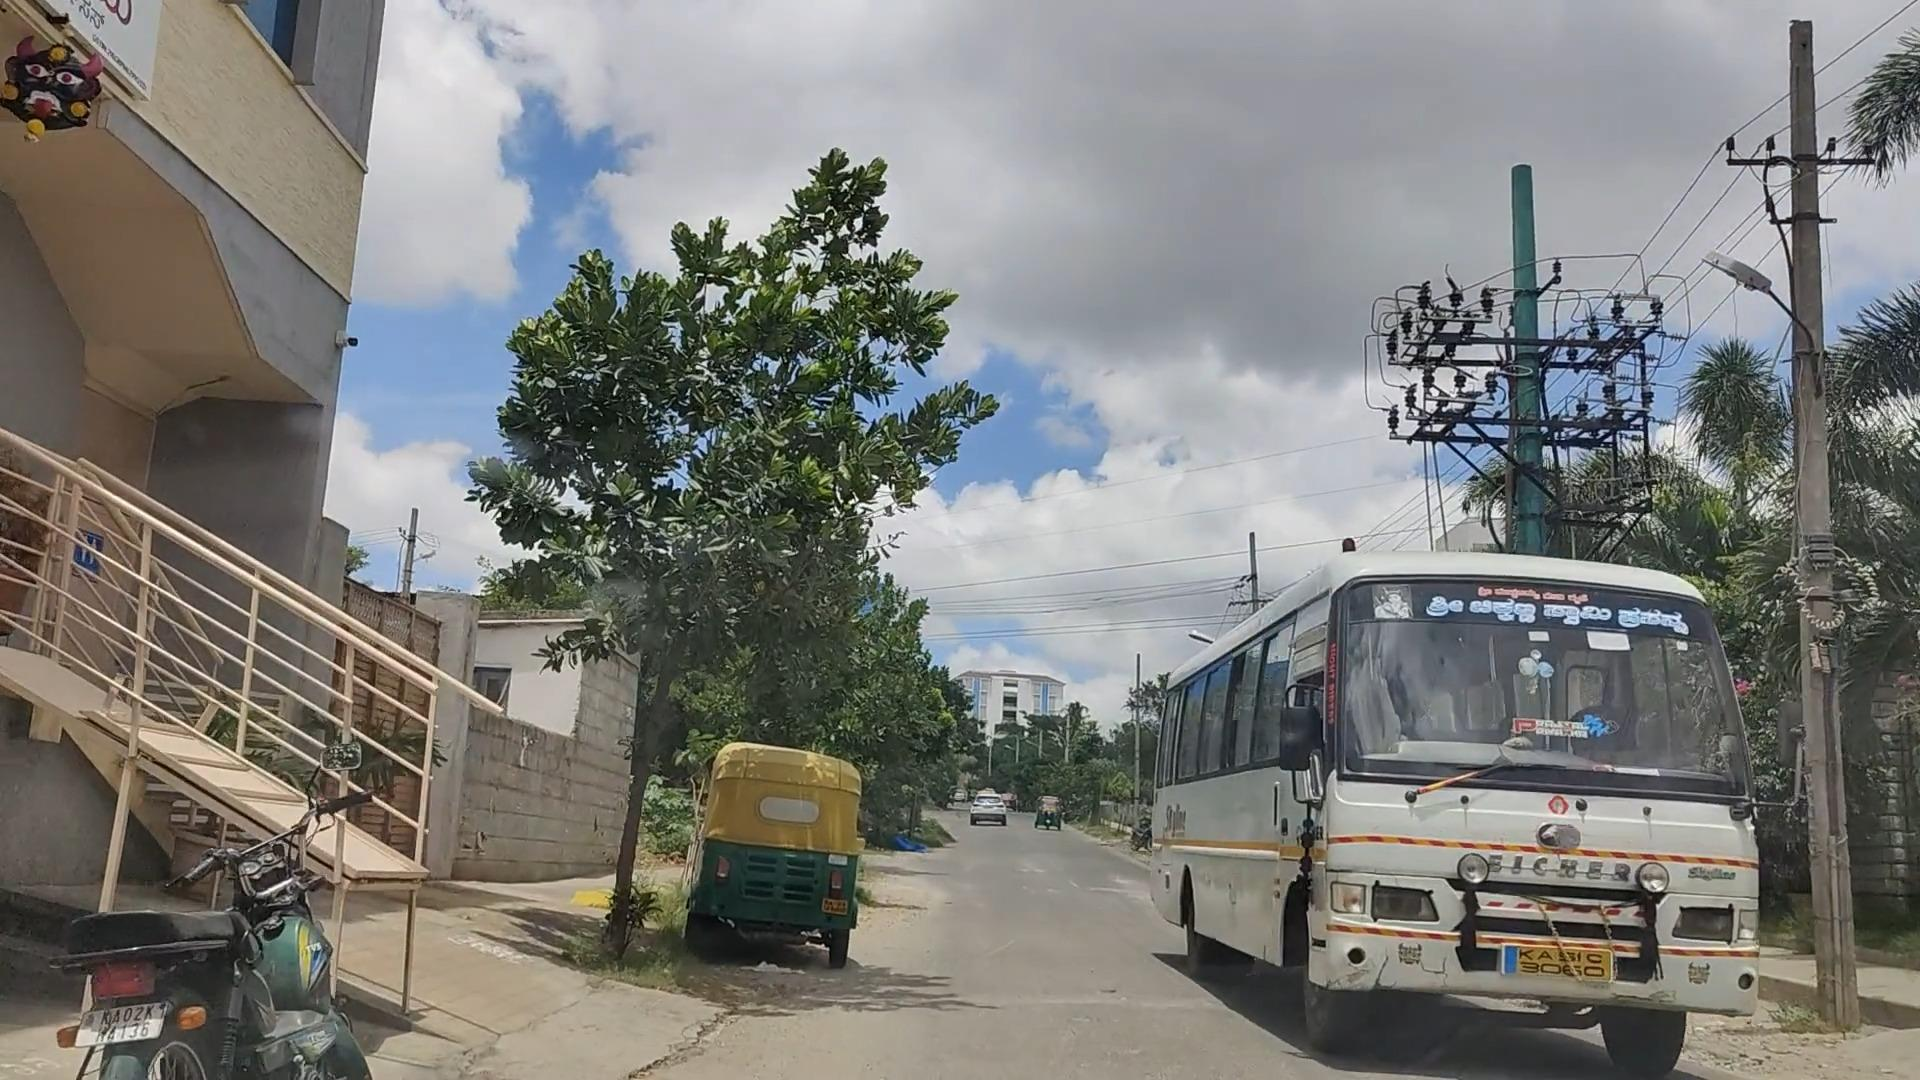HMV: (1143, 543, 1774, 1080)
